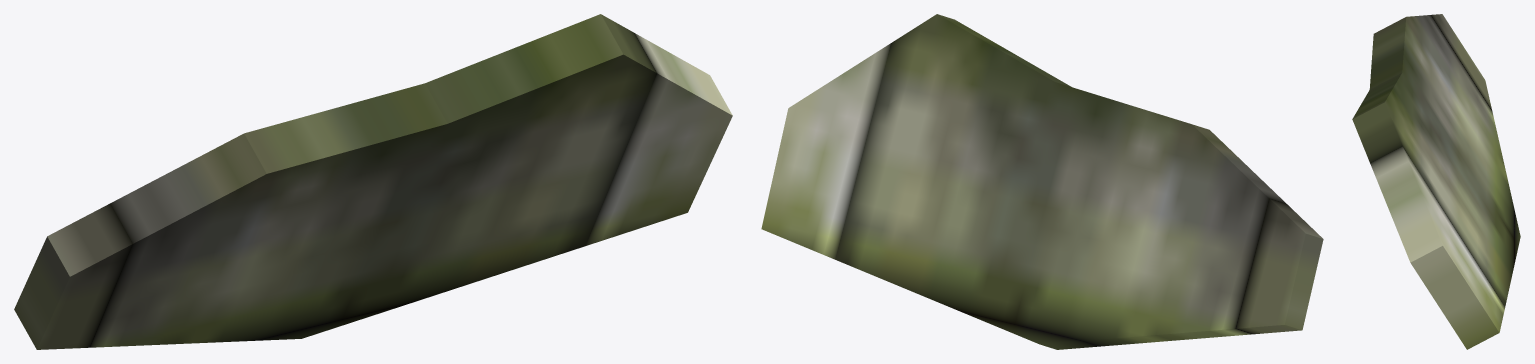
The model's file is China - Aviation - Cargo Plane - Damage State 2 - NVCargoPln_d2.glb.
The picture shows the model from 3 angles, left to right: view 1: azimuth 30°, elevation 25°; view 2: azimuth 150°, elevation 25°; view 3: azimuth 270°, elevation 25°; orthographic projection. The views are drawn at different scales.
Parts seen in each view (by area): view 1: NVCARGOPLN_D2; view 2: NVCARGOPLN_D2; view 3: NVCARGOPLN_D2.
Boxes of the visible parts, <box> form: NVCARGOPLN_D2: <box>14,14,732,349</box>; NVCARGOPLN_D2: <box>761,14,1323,349</box>; NVCARGOPLN_D2: <box>1352,14,1520,349</box>.
Bounding box in the file's own units: 10.96 × 5.07 × 3.36.
Materials: 1 (1 with a texture image).
